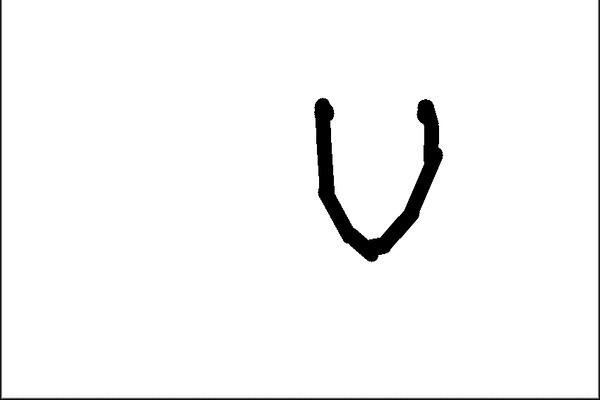U: (299, 88, 457, 272)
